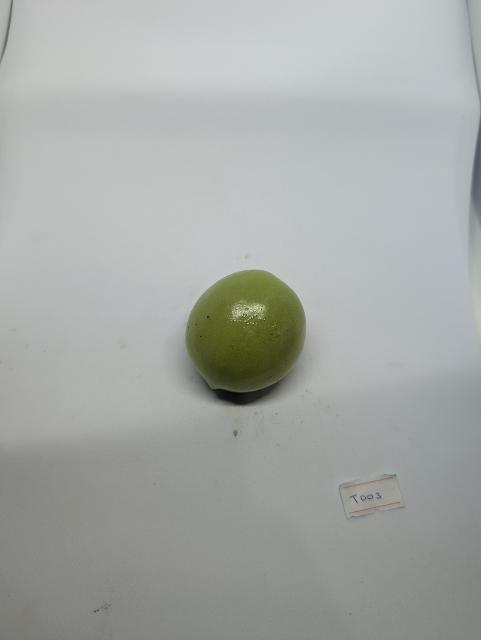green: (177, 249, 335, 427)
